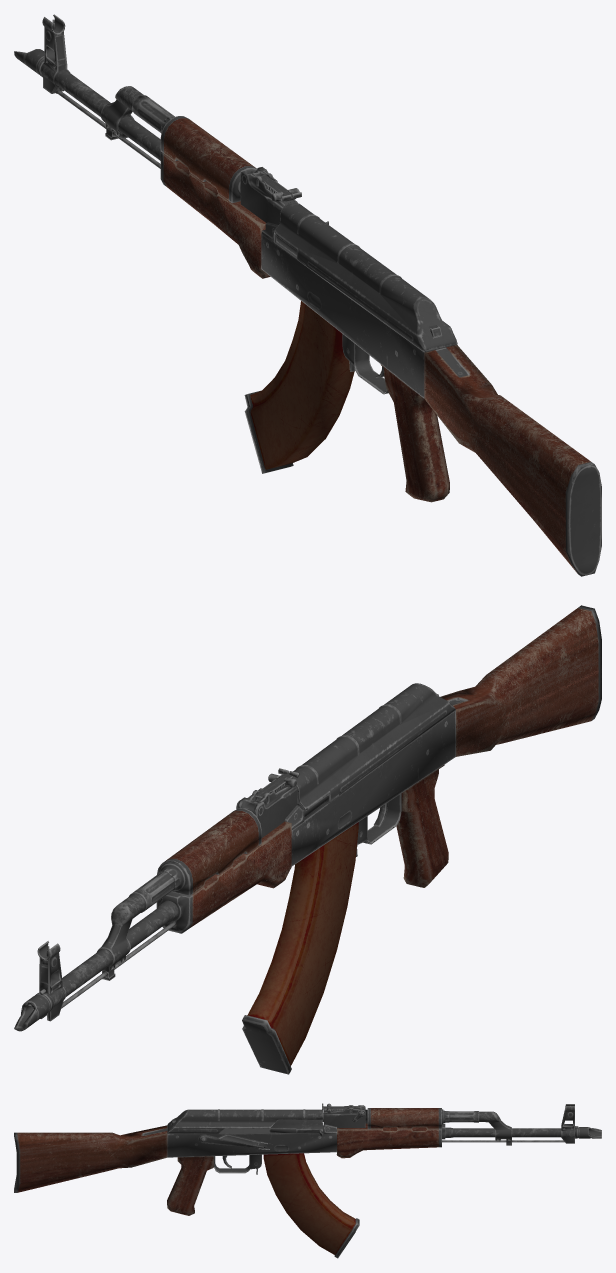
Rendered from AKM.fbx.
The picture shows the model from 3 angles, top to bottom: view 1: azimuth 30°, elevation 25°; view 2: azimuth 150°, elevation 25°; view 3: azimuth 270°, elevation 25°; orthographic projection. The views are drawn at different scales.
Parts seen in each view (by area): view 1: Object_4; view 2: Object_4; view 3: Object_4.
Boxes of the visible parts, x1,y1,x2,y2 form: Object_4: (14, 14, 601, 576); Object_4: (14, 605, 601, 1074); Object_4: (14, 1103, 601, 1258).
Size of the model in its own units: 5.41 by 27.38 by 97.23.
